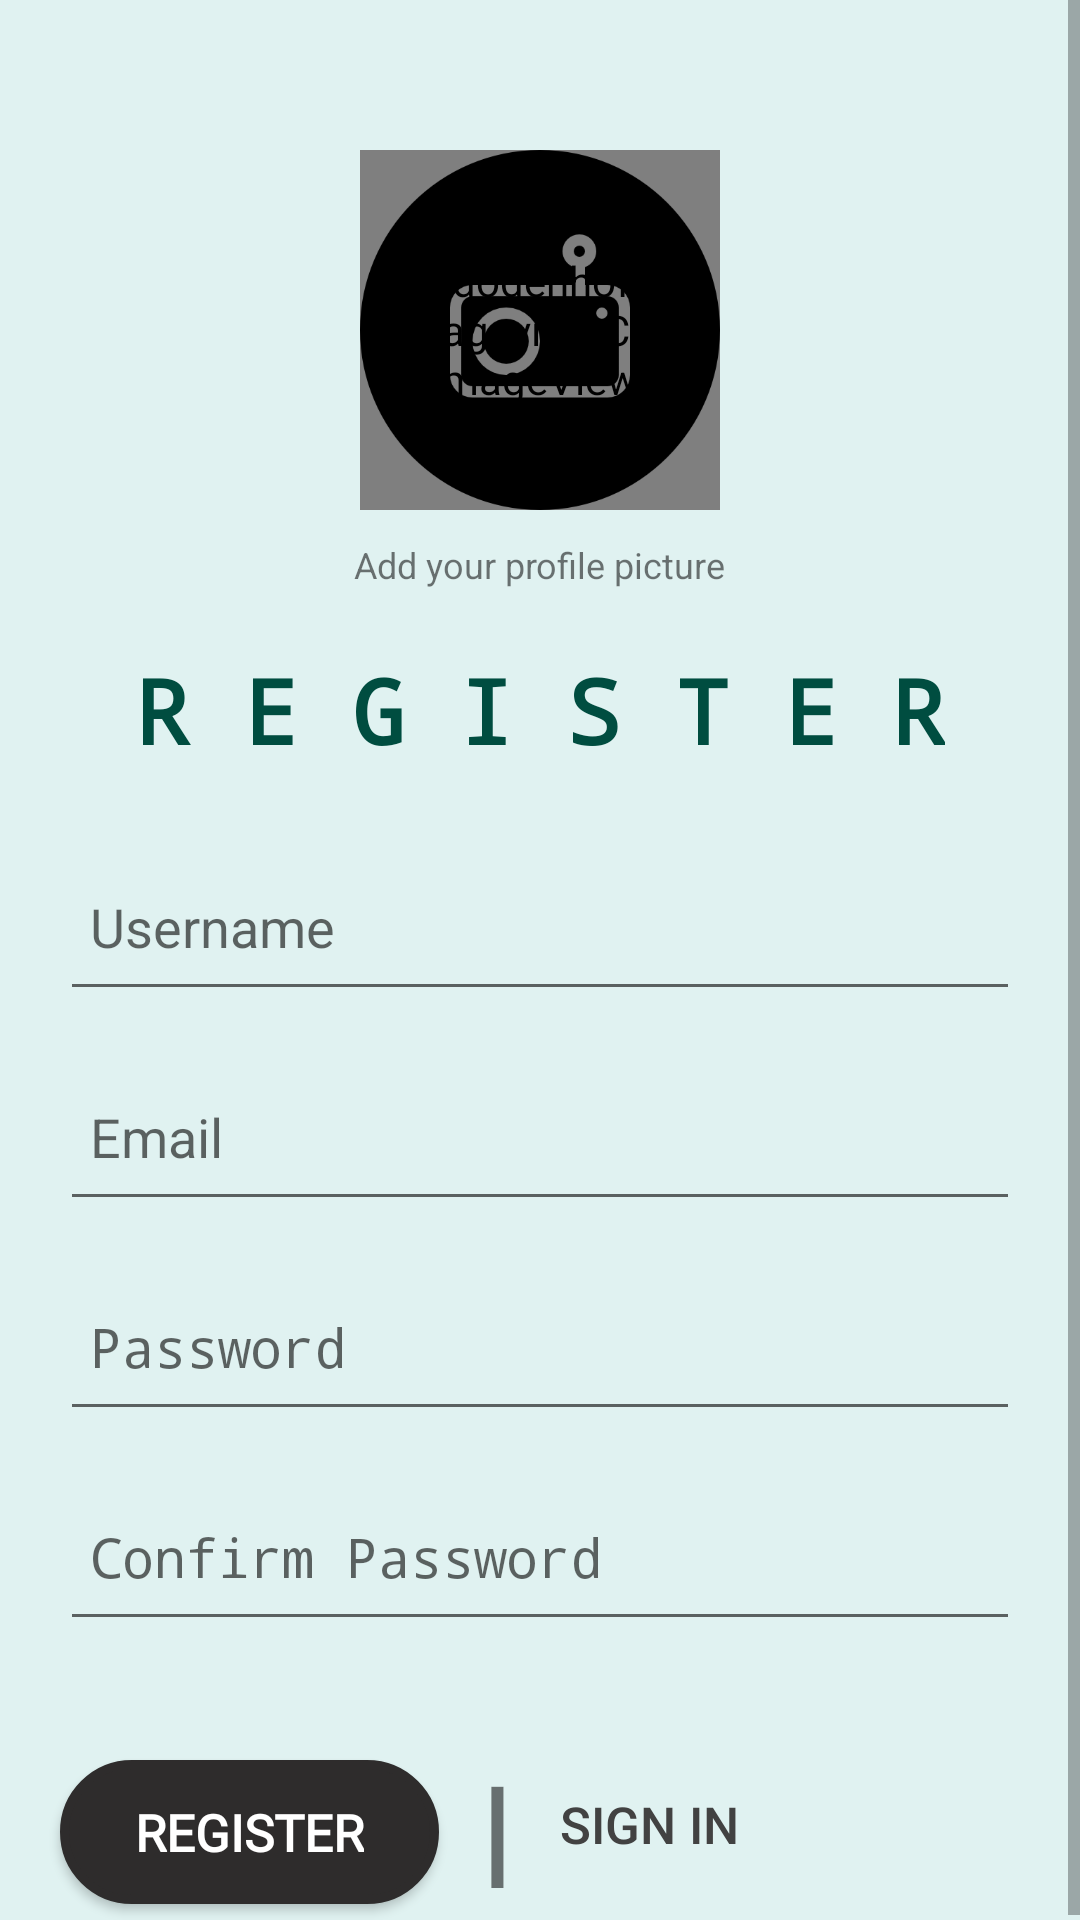

Where icons sit on this 1080*1920 app screen, as rect(x1, y1, x2, y2):
cam: rect(360, 150, 720, 510)
